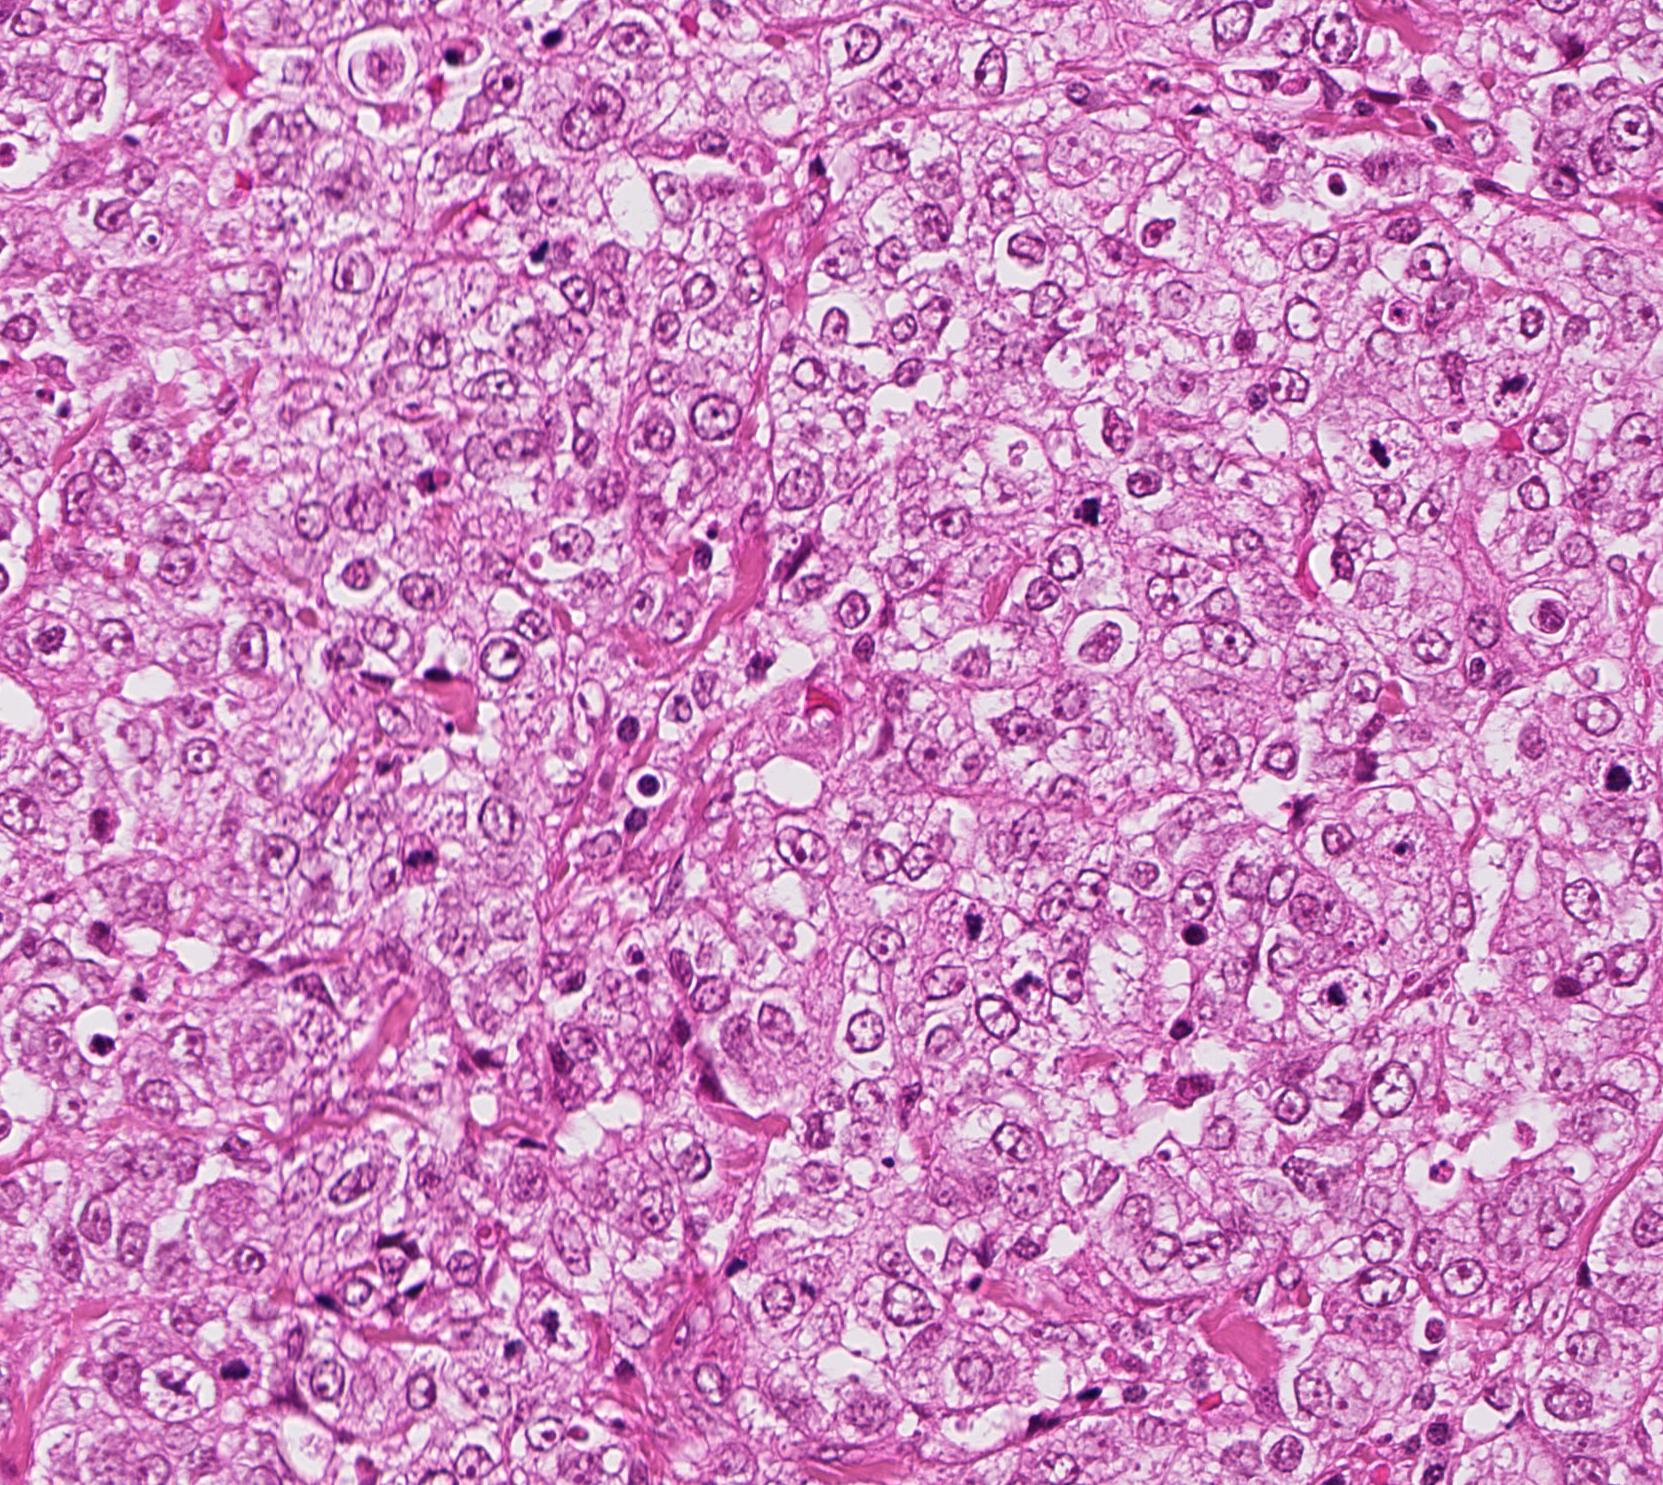mitosis: (1058, 490, 1118, 550), (208, 1340, 268, 1400), (1578, 750, 1639, 810), (933, 889, 993, 949)
